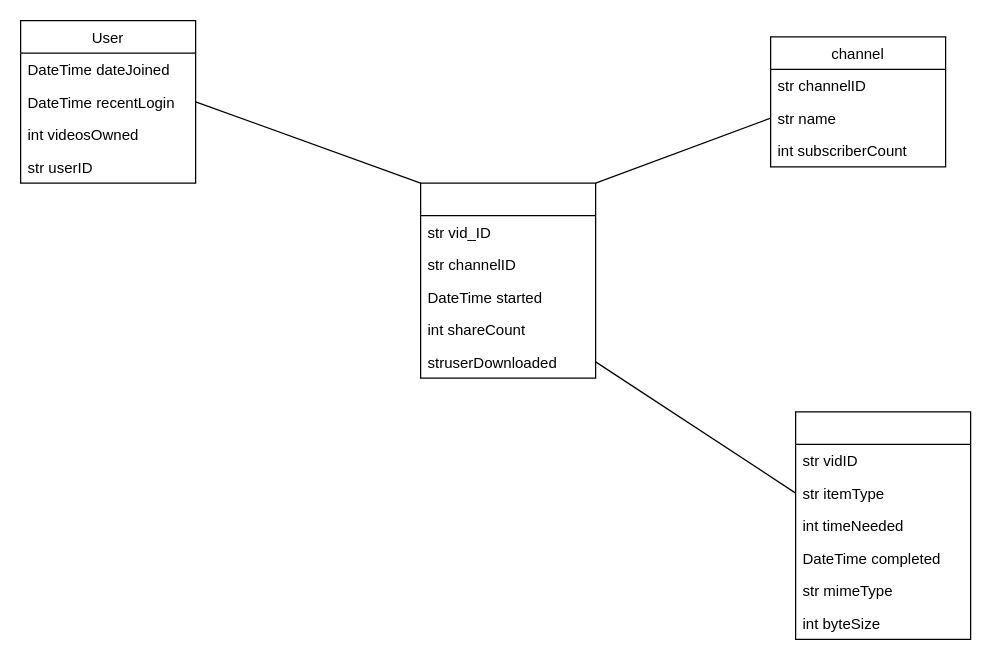
The diagram is 991 pixels wide and 660 high, and some of its shapes have lost their labels. The box of each missing label's shape, as (x1, y1, x2, y2) in pixels:
Storage: (794, 411, 971, 639)
Videos: (419, 182, 596, 378)
